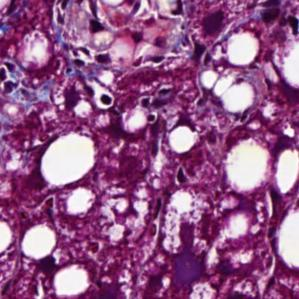inflammation: (149, 3, 210, 60), (43, 0, 115, 38), (56, 38, 116, 78), (134, 84, 176, 126), (0, 59, 26, 95), (89, 88, 119, 113)
